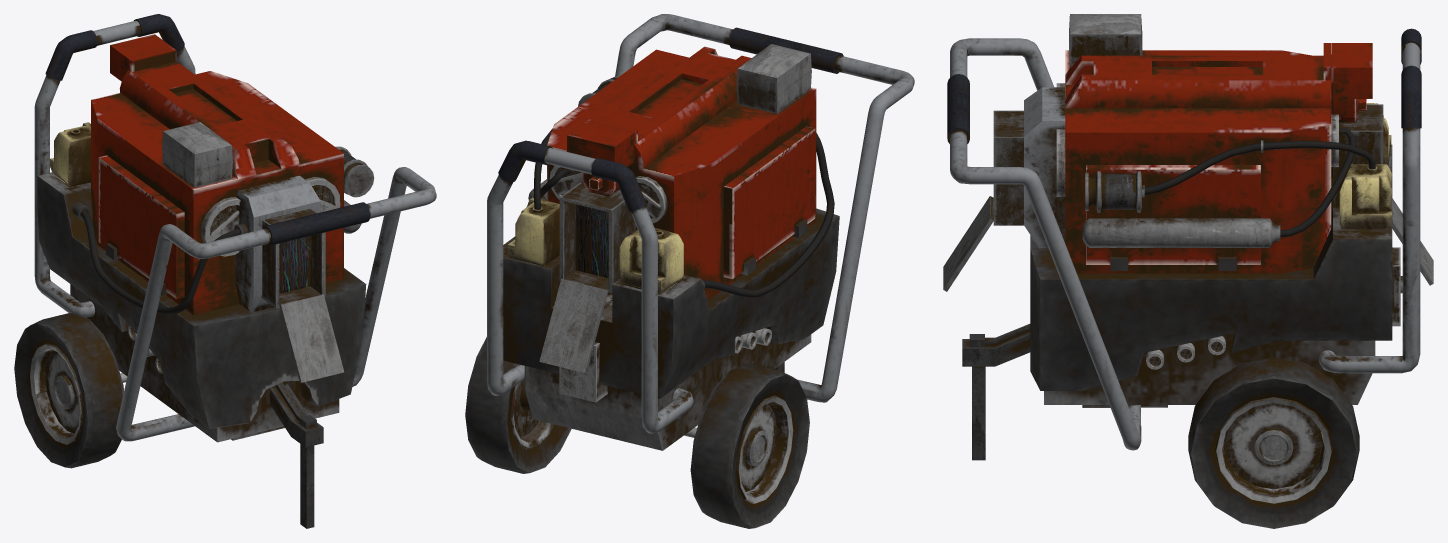
The model's file is Generator.fbx.
3 views of the same model, side by side, from view 1: azimuth 30°, elevation 25°; view 2: azimuth 150°, elevation 25°; view 3: azimuth 270°, elevation 25° (orthographic). The views are drawn at different scales.
Visible parts, largest first — view 1: Cube.013, Cube, Cylinder.003, Cylinder, Cube.005, BezierCurve.001, Cube.010; view 2: Cube.013, Cube, Cylinder.003, Cylinder, Cube.005, BezierCurve.001, Cube.006, Cube.010; view 3: Cube.013, Cube, Cylinder, Cylinder.003, BezierCurve.001, Cube.005, Cube.006, Cube.001.
Part boxes in pixels (x1,y1,x2,y2): Cube.013: (91,34,343,315); Cube: (37,172,366,528); Cylinder.003: (34,14,436,441); Cylinder: (14,313,127,468); Cube.005: (261,208,344,383); BezierCurve.001: (80,146,374,314); Cube.010: (50,122,90,186); Cube.013: (547,44,816,298); Cube: (503,208,839,450); Cylinder.003: (487,14,914,433); Cylinder: (465,337,809,528); Cube.005: (539,182,635,373); BezierCurve.001: (526,76,834,297); Cube.006: (507,197,559,266); Cube.010: (619,228,683,294); Cube.013: (1024,14,1372,273); Cube: (962,144,1400,460); Cylinder: (1188,357,1359,528); Cylinder.003: (947,28,1421,450); BezierCurve.001: (1082,127,1375,247); Cube.005: (943,104,1433,291); Cube.006: (1339,164,1391,229); Cube.001: (1331,99,1358,122).
Bounding box in the file's own units: 78.04 × 109 × 118.
1 material, 1 textured.
